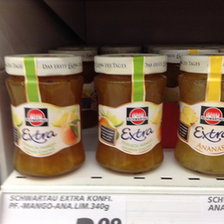jam: (3, 53, 85, 178), (94, 53, 170, 174), (174, 53, 224, 176)
